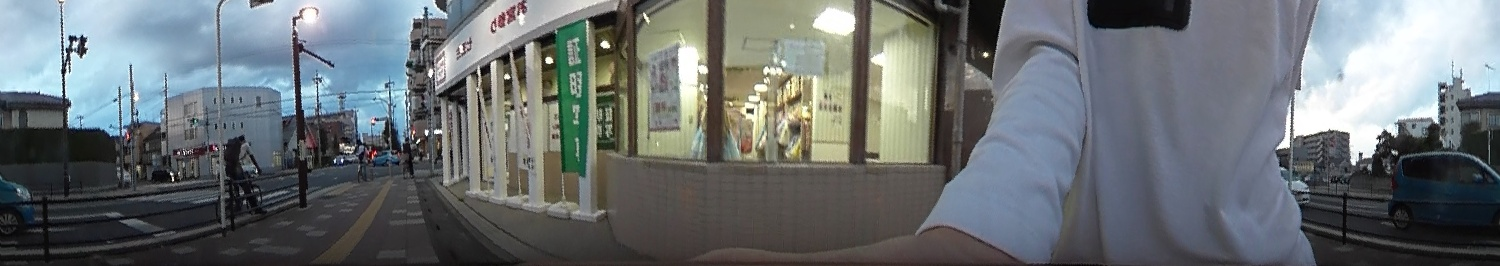difficult_person: (401, 134, 415, 178), (352, 134, 367, 173)
person: (219, 133, 261, 215)
